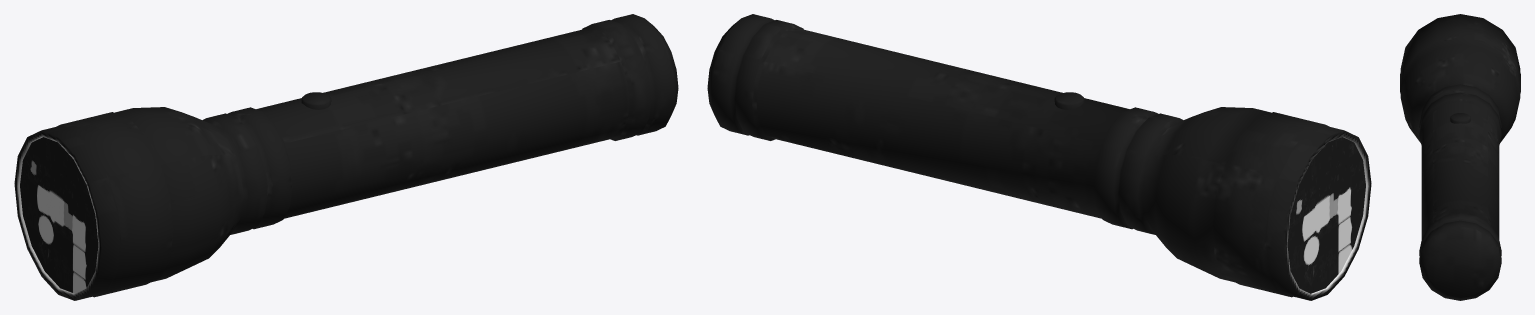
File: Flashlight.glb
3 views of the same model, side by side, from view 1: azimuth 30°, elevation 25°; view 2: azimuth 150°, elevation 25°; view 3: azimuth 270°, elevation 25° (orthographic). The views are drawn at different scales.
Parts seen in each view (by area): view 1: Flashlight; view 2: Flashlight; view 3: Flashlight.
Part boxes in pixels (left/top/right/bottom): Flashlight: left=14, top=14, right=678, bottom=300; Flashlight: left=707, top=14, right=1371, bottom=300; Flashlight: left=1400, top=14, right=1520, bottom=300.
Bounding box in the file's own units: 4.45 × 1.14 × 1.14.
1 material, 1 textured.
